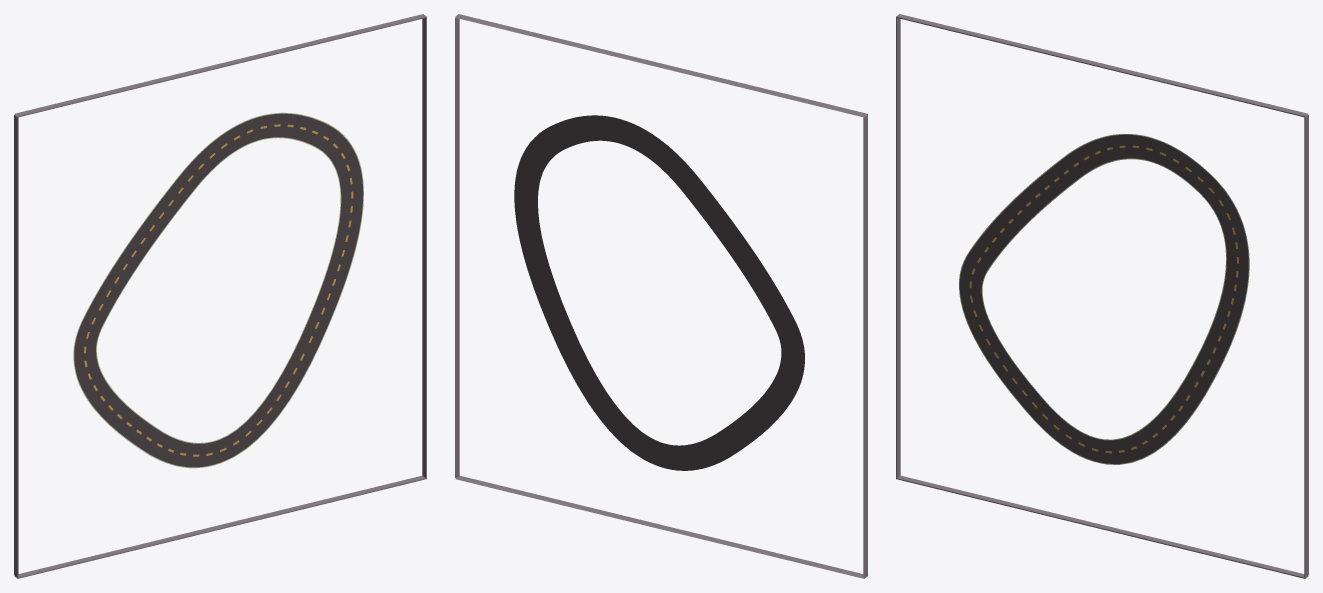
Rendered from track.obj.
3 renders of one model, left to right at view 1: azimuth 30°, elevation 25°; view 2: azimuth 150°, elevation 25°; view 3: azimuth 330°, elevation 25°, orthographic.
Bounding box in the file's own units: 19.52 × 21.08 × 0.3.
Materials: 4 (4 with a texture image).
